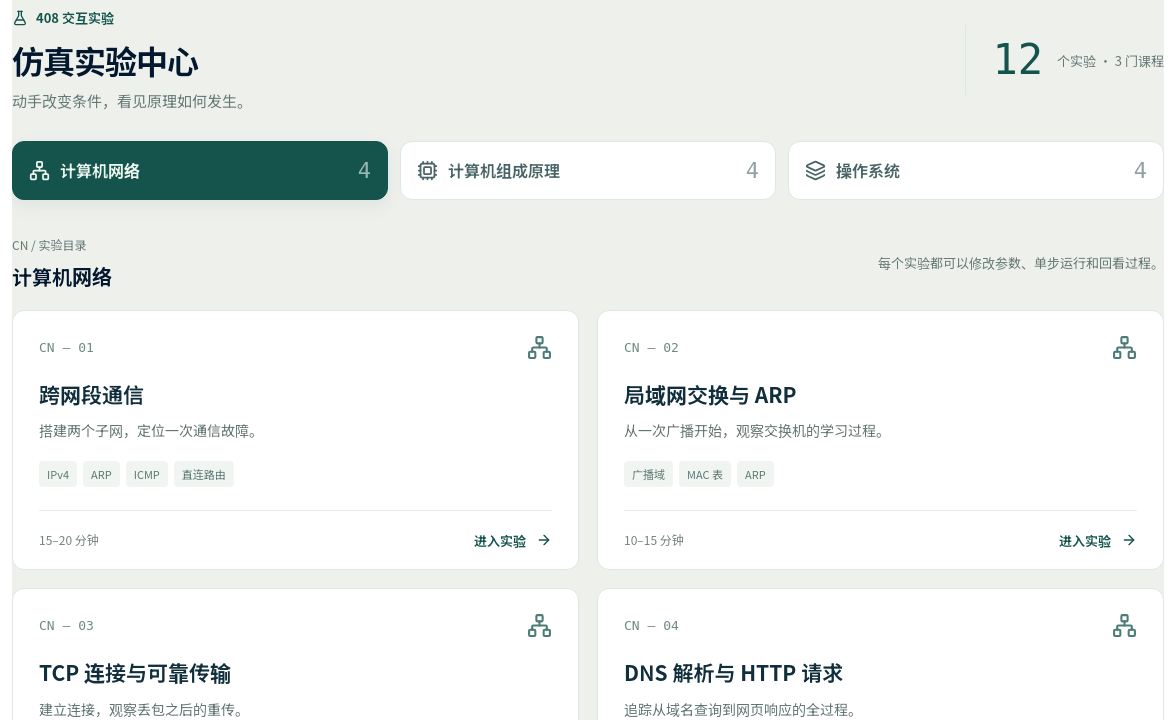
Test case: experiment catalog › offers four real routes per course and keeps subjects separate
Expected: the heading "仿真实验中心" is shown, top-left (12, 36), bottom-right (198, 82)
Expected: the heading "跨网段通信" is shown, top-left (39, 379), bottom-right (144, 409)
Click the button "计算机组成原理 4" at (504, 170), box top-left (400, 141), bottom-right (776, 200)
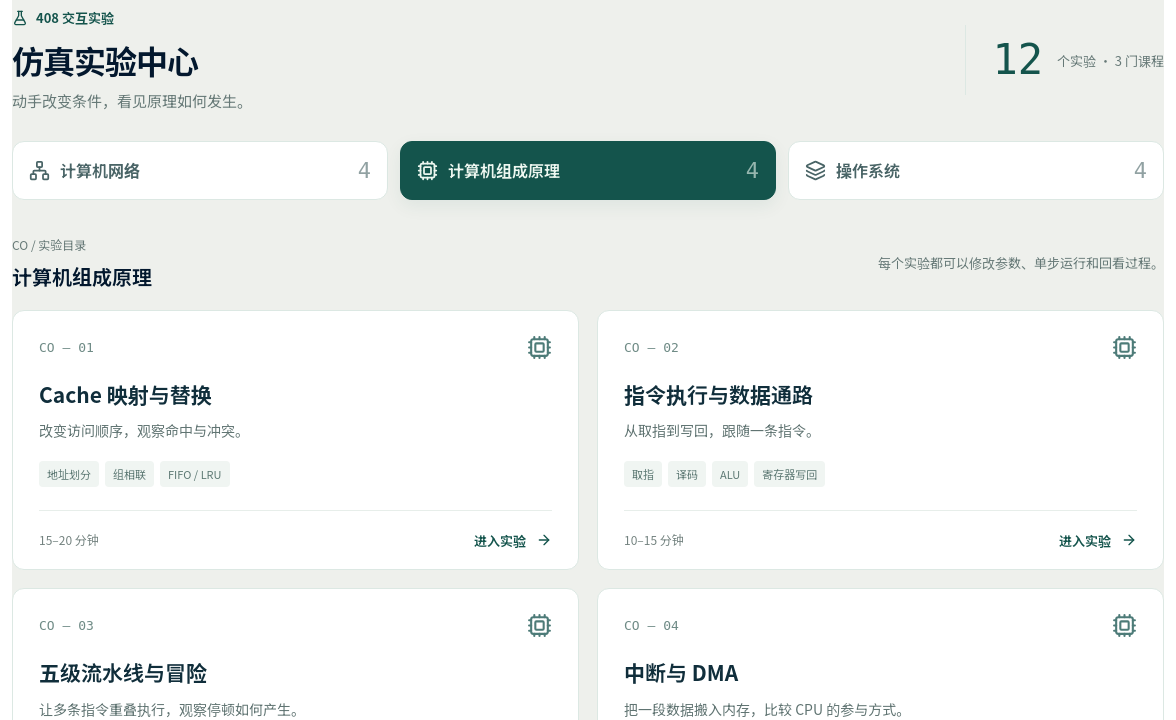
Expected: the heading "Cache 映射与替换" is shown, top-left (39, 379), bottom-right (212, 409)
Click the button "操作系统 4" at (868, 170), box top-left (788, 141), bottom-right (1164, 200)
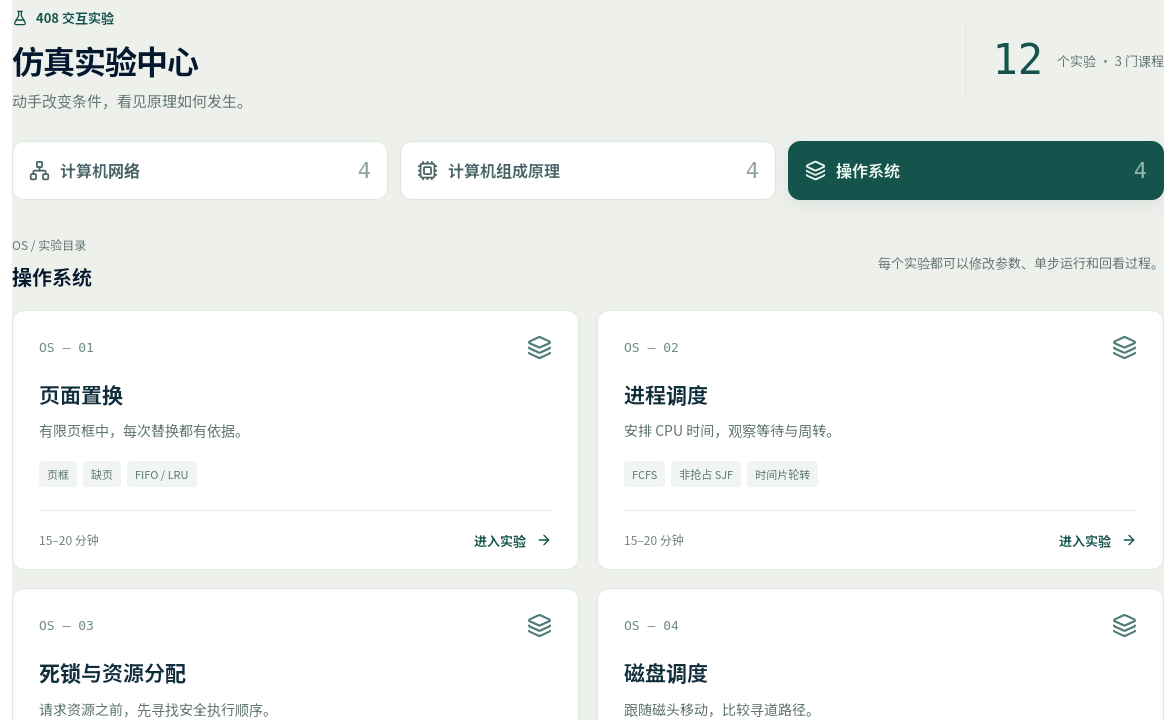
Expected: the heading "页面置换" is shown, top-left (39, 379), bottom-right (123, 409)
